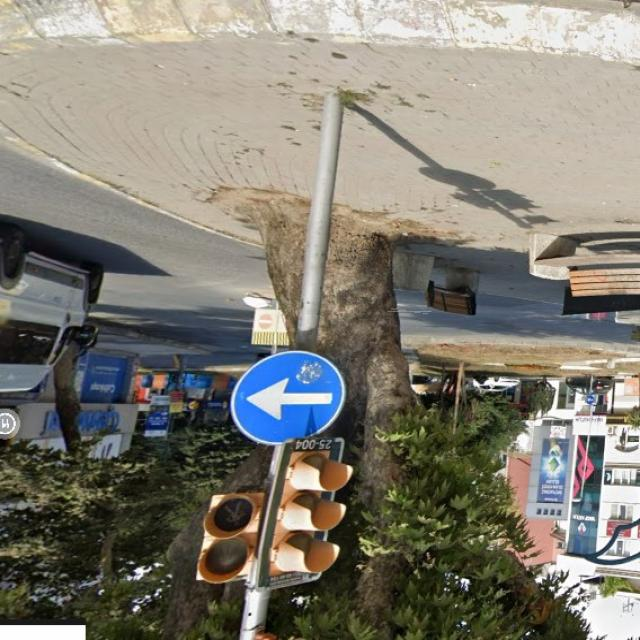Turn Left: (226, 354, 359, 448)
